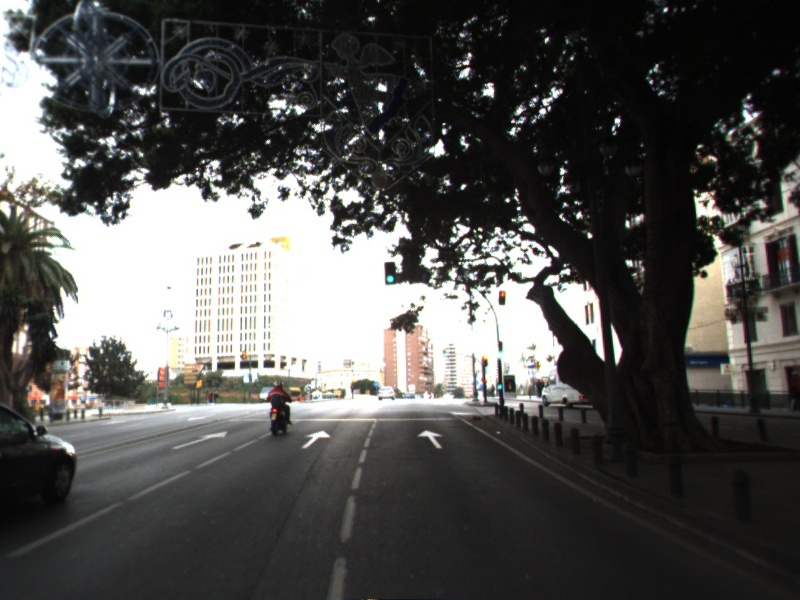STRAIGHT: (170, 429, 230, 451), (299, 428, 333, 451), (415, 428, 445, 451)
